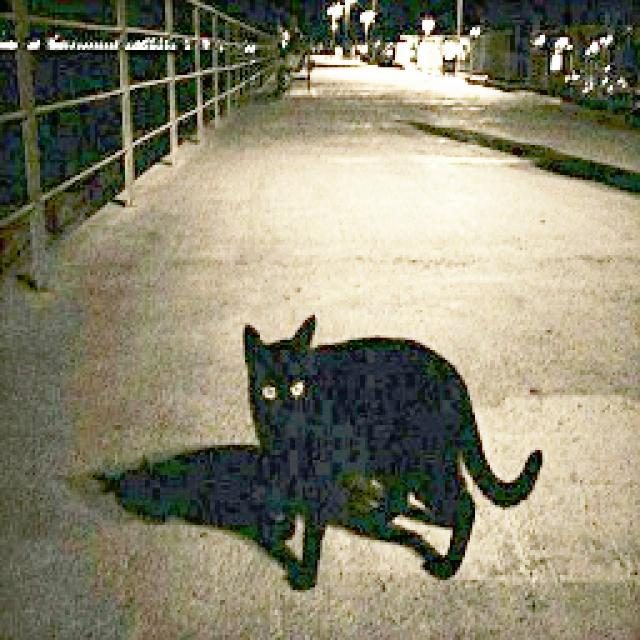cat: (233, 305, 548, 593)
